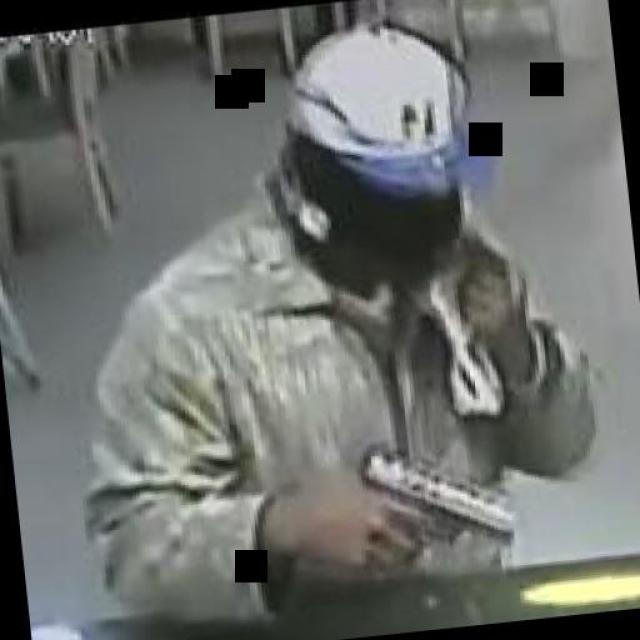gun: (352, 438, 516, 572)
